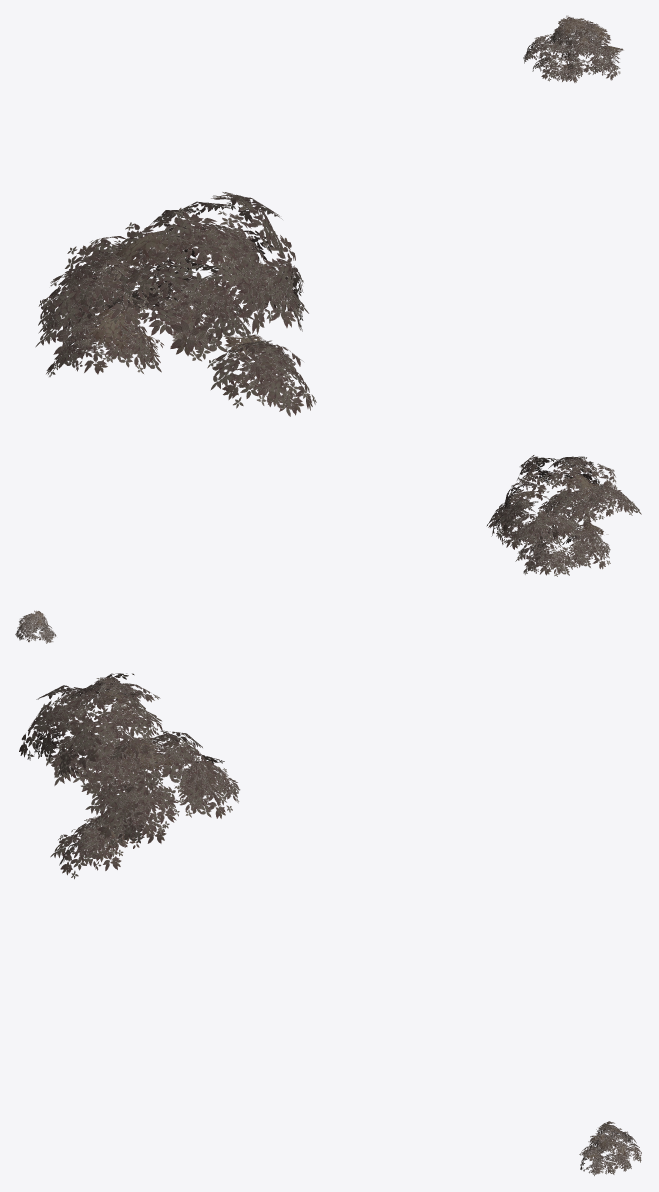
File: Area11_15.FBX
The picture shows the model from 3 angles, top to bottom: view 1: azimuth 30°, elevation 25°; view 2: azimuth 150°, elevation 25°; view 3: azimuth 270°, elevation 25°; orthographic projection. The views are drawn at different scales.
Visible parts, largest first — view 1: Area11_15; view 2: Area11_15; view 3: Area11_15.
Boxes of the visible parts, left/top/right/bottom form: Area11_15: left=35, top=15, right=623, bottom=416; Area11_15: left=15, top=455, right=641, bottom=643; Area11_15: left=19, top=673, right=641, bottom=1176.
Size of the model in its own units: 4355 by 1342 by 3513.
